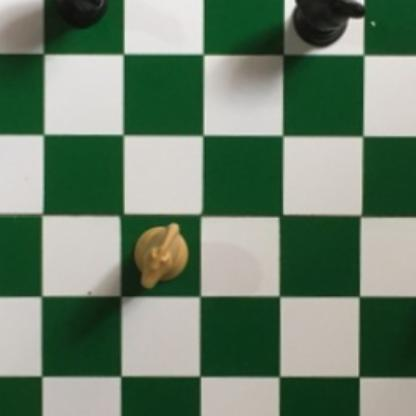black-knight: (290, 0, 370, 50), (41, 0, 110, 30)
white-knight: (128, 219, 190, 290)
